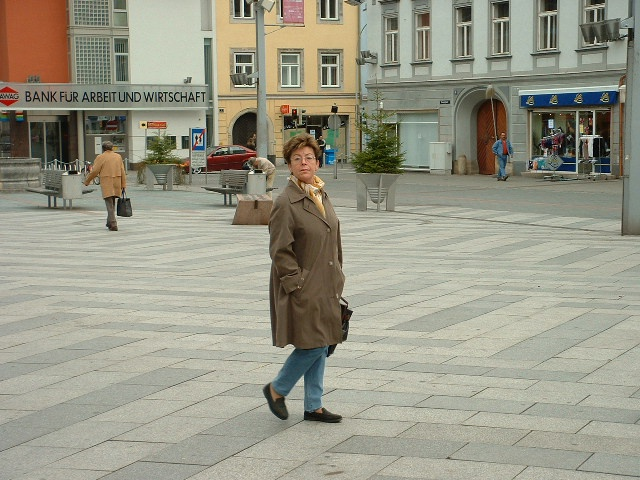person: (253, 136, 350, 422), (82, 139, 131, 232)
